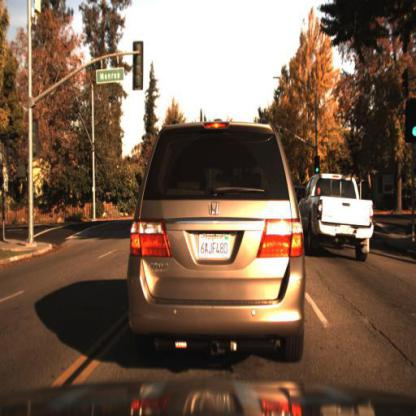car: (126, 120, 305, 363), (301, 171, 375, 264)
trafficLight-Green: (406, 91, 416, 146), (314, 154, 323, 179)
